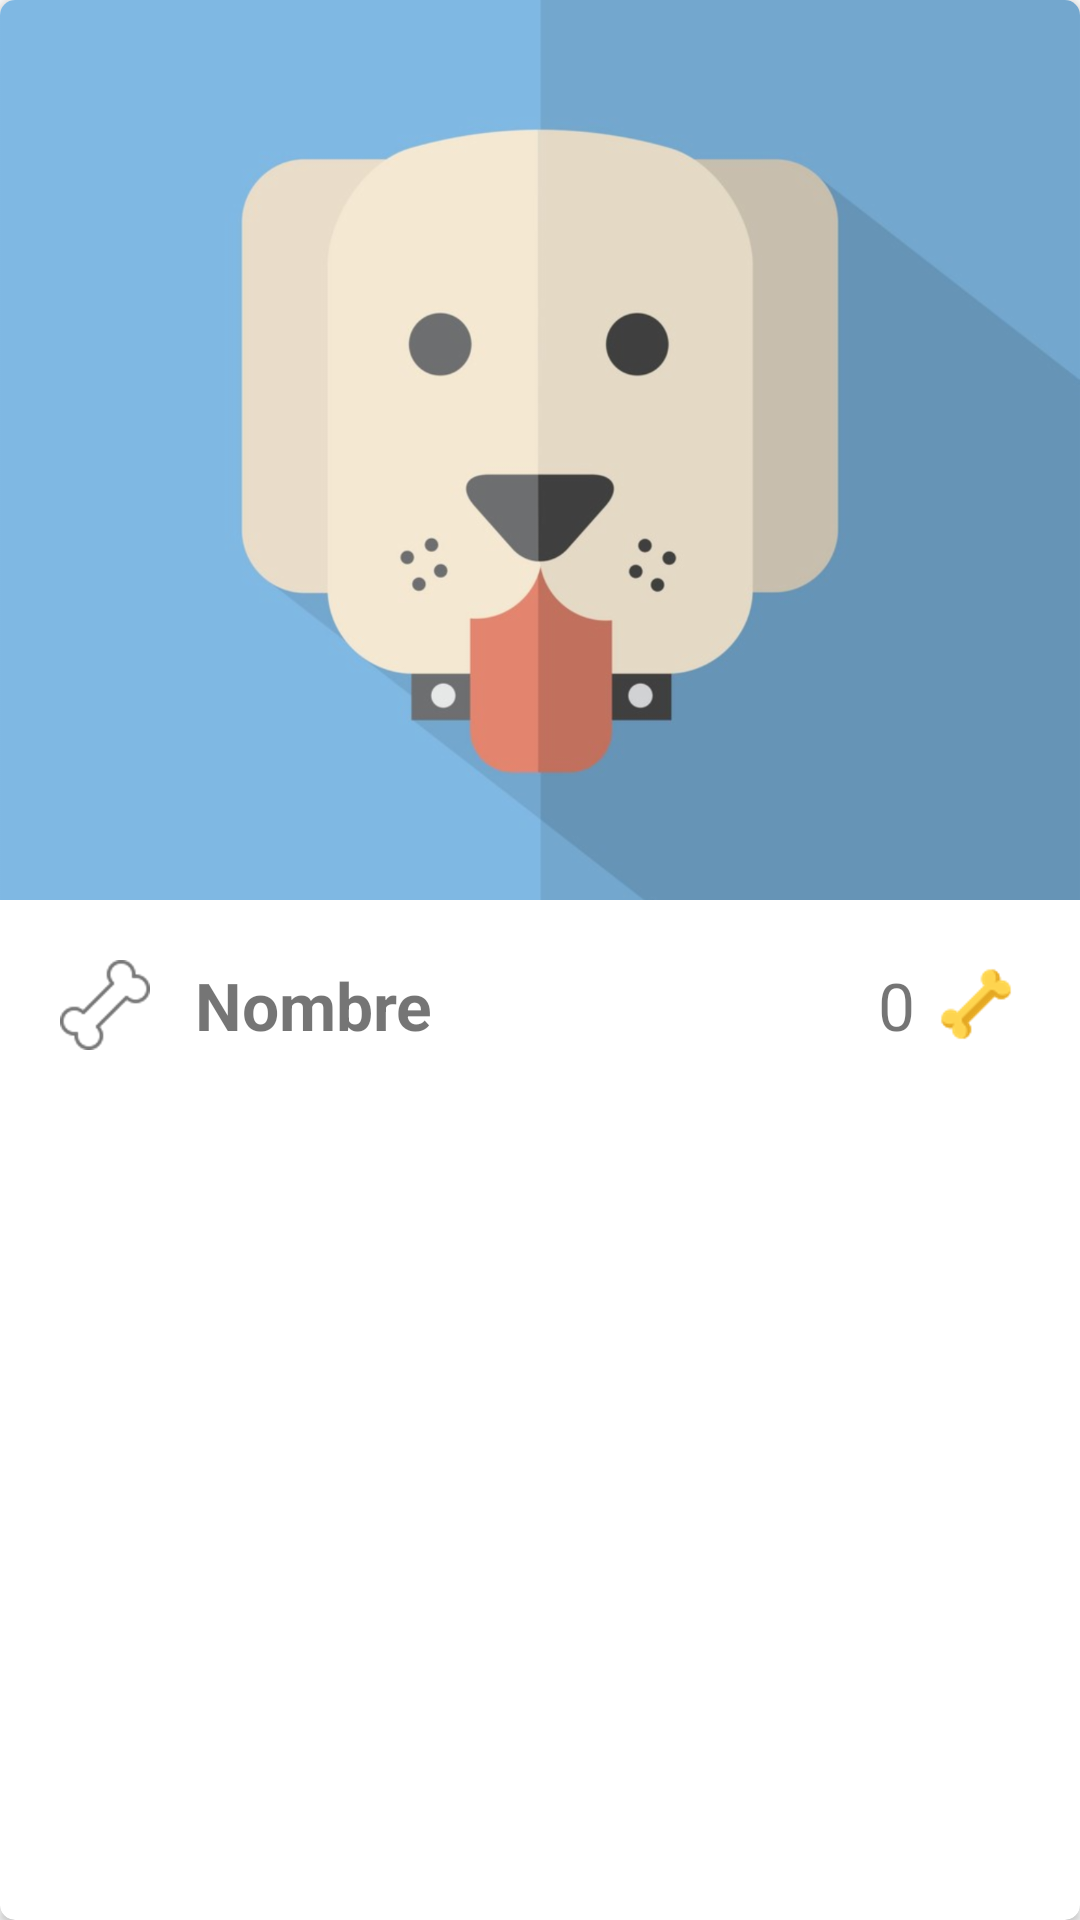

Named icons in this screenshot (1080*1920) and their centers, (x,y):
bone: (976,1004)
bonebutton: (105,1005)
